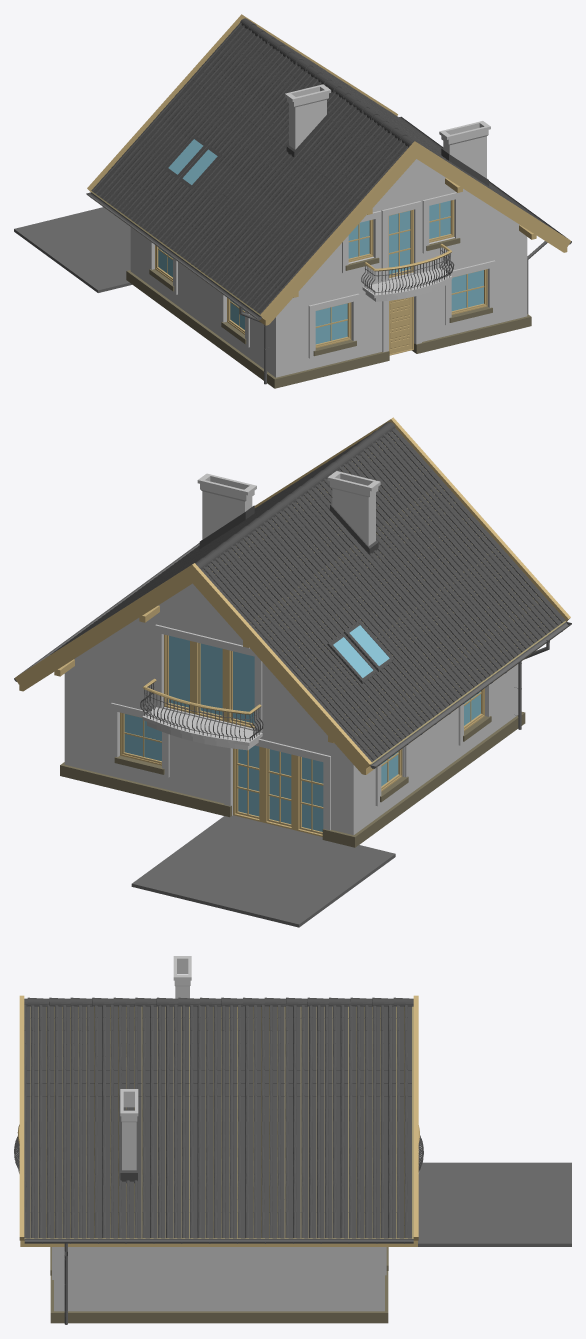
Rendered from cyprys.glb.
3 renders of one model, top to bottom at view 1: azimuth 30°, elevation 25°; view 2: azimuth 150°, elevation 25°; view 3: azimuth 270°, elevation 25°, orthographic. The views are drawn at different scales.
Visible parts, largest first — view 1: roof_roof_metal_dark_brown, walls_walls_plaster_light_brown, boards_boards_wood_brown, cover_window_cover_window_plaster_sand, terrace_terrace_plate_grey, windows_windows_glass_window, foundation_foundation_foundation_brown_brick, chimneys_chimneys_plaster_light_brown, windows_windows_wood_brown, gutters_gutters_metal_grey, parapets_parapets_foundation_brown_brick, balcony_balcony_plaster_light_brown (+5 smaller); view 2: roof_roof_metal_dark_brown, walls_walls_plaster_light_brown, terrace_terrace_plate_grey, windows_windows_glass_window, boards_boards_wood_brown, windows_windows_wood_brown, cover_window_cover_window_plaster_sand, foundation_foundation_foundation_brown_brick, chimneys_chimneys_plaster_light_brown, balcony_balcony_plaster_light_brown, gutters_gutters_metal_grey, barrels_barrels_metal_grey (+5 smaller); view 3: roof_roof_metal_dark_brown, walls_walls_plaster_light_brown, terrace_terrace_plate_grey, roof_support_roof_support_wood_balls_brown, foundation_foundation_foundation_brown_brick, boards_boards_wood_brown, gutters_gutters_metal_grey, chimneys_chimneys_plaster_light_brown.
Boxes of the visible parts, x1,y1,x2,y2 form: roof_roof_metal_dark_brown: (91, 18, 542, 314); walls_walls_plaster_light_brown: (130, 159, 527, 377); boards_boards_wood_brown: (87, 14, 570, 325); cover_window_cover_window_plaster_sand: (148, 192, 495, 358); terrace_terrace_plate_grey: (14, 207, 132, 292); windows_windows_glass_window: (158, 200, 483, 344); foundation_foundation_foundation_brown_brick: (126, 270, 531, 388); chimneys_chimneys_plaster_light_brown: (285, 84, 490, 178); windows_windows_wood_brown: (155, 200, 487, 347); gutters_gutters_metal_grey: (86, 116, 571, 384); parapets_parapets_foundation_brown_brick: (149, 238, 492, 356); balcony_balcony_plaster_light_brown: (362, 268, 452, 301); roof_roof_metal_dark_brown: (47, 422, 565, 761); walls_walls_plaster_light_brown: (64, 583, 518, 835); terrace_terrace_plate_grey: (131, 815, 395, 927); windows_windows_glass_window: (124, 635, 480, 831); boards_boards_wood_brown: (15, 417, 570, 774); windows_windows_wood_brown: (120, 634, 484, 836); cover_window_cover_window_plaster_sand: (111, 624, 492, 830); foundation_foundation_foundation_brown_brick: (60, 712, 525, 847); chimneys_chimneys_plaster_light_brown: (197, 471, 380, 545); balcony_balcony_plaster_light_brown: (142, 707, 262, 750); gutters_gutters_metal_grey: (14, 543, 571, 768); barrels_barrels_metal_grey: (140, 683, 263, 741); roof_roof_metal_dark_brown: (23, 997, 413, 1238); walls_walls_plaster_light_brown: (54, 1247, 384, 1311); terrace_terrace_plate_grey: (418, 1162, 571, 1246); roof_support_roof_support_wood_balls_brown: (24, 1006, 413, 1240); foundation_foundation_foundation_brown_brick: (50, 1271, 388, 1323); boards_boards_wood_brown: (19, 995, 418, 1246); gutters_gutters_metal_grey: (24, 1239, 413, 1324); chimneys_chimneys_plaster_light_brown: (120, 956, 191, 1170).
Bounding box in the file's own units: 12.01 × 8.48 × 16.02.
